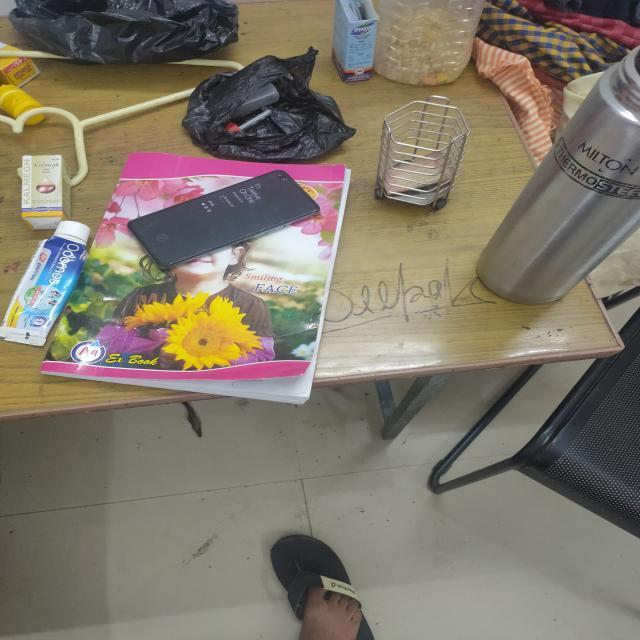Phone: (127, 167, 322, 277)
